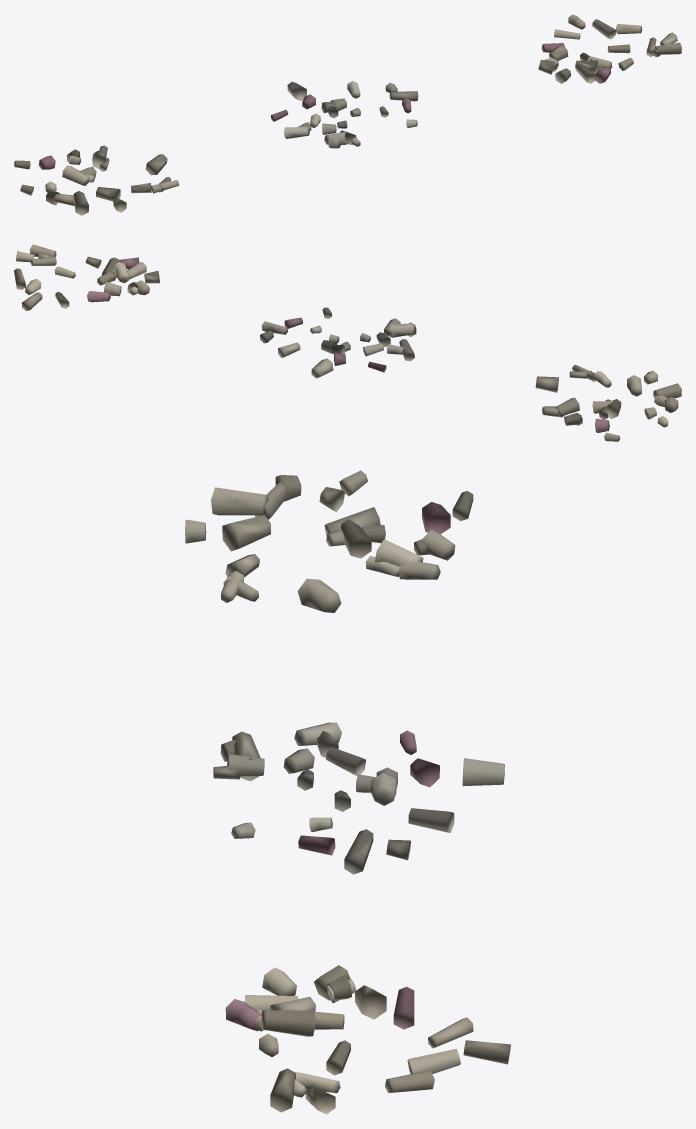
3 views of the same model, one above another, from view 1: azimuth 30°, elevation 25°; view 2: azimuth 150°, elevation 25°; view 3: azimuth 270°, elevation 25° (orthographic). The views are drawn at different scales.
Parts seen in each view (by area): view 1: coral-rubble-2, coral-rubble-0, coral-rubble-1; view 2: coral-rubble-2, coral-rubble-0, coral-rubble-1; view 3: coral-rubble-2, coral-rubble-0, coral-rubble-1.
Part boxes in pixels (<box>): coral-rubble-2: <box>538,14,681,83</box>; coral-rubble-0: <box>14,145,179,215</box>; coral-rubble-1: <box>271,81,418,148</box>; coral-rubble-2: <box>14,244,159,310</box>; coral-rubble-0: <box>535,365,681,441</box>; coral-rubble-1: <box>260,307,416,378</box>; coral-rubble-2: <box>225,965,510,1114</box>; coral-rubble-0: <box>185,470,473,612</box>; coral-rubble-1: <box>213,722,504,874</box>.
Size of the model in its own units: 0.7629 by 0.0199 by 0.1665.
